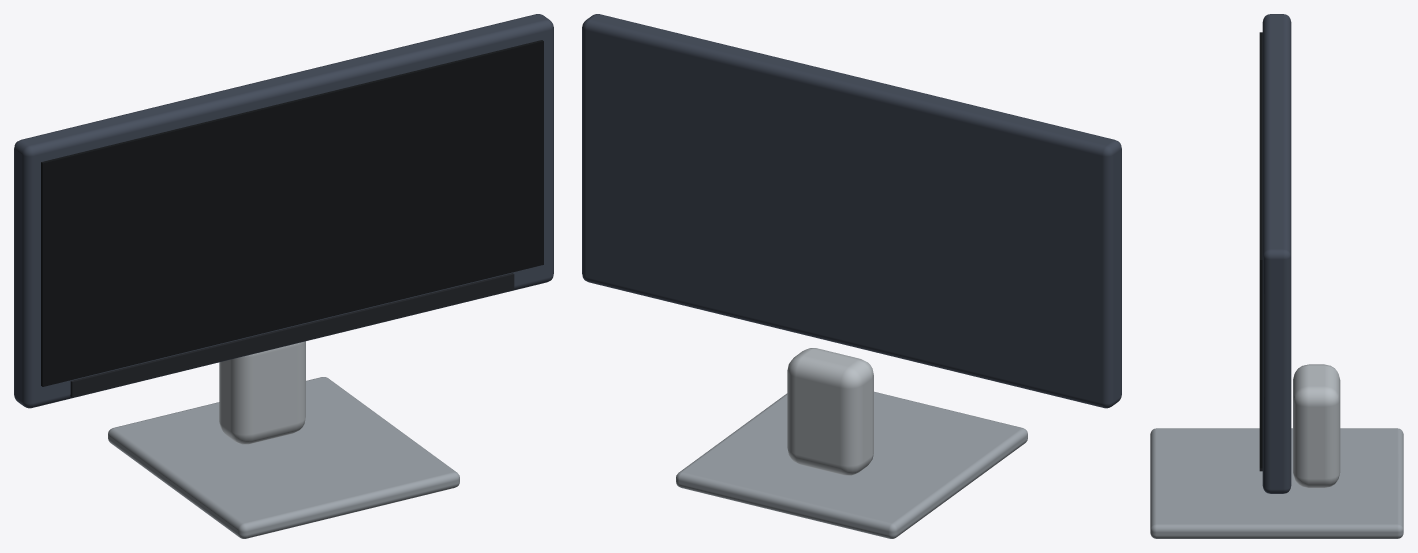
Rendered from desktop-lite.glb.
The picture shows the model from 3 angles, left to right: view 1: azimuth 30°, elevation 25°; view 2: azimuth 150°, elevation 25°; view 3: azimuth 270°, elevation 25°; orthographic projection. The views are drawn at different scales.
Visible parts, largest first — view 1: material-3-screen, material-0-base, material-2-body, material-4-grating, material-1-metal; view 2: material-2-body, material-0-base, material-1-metal; view 3: material-0-base, material-2-body, material-1-metal, material-3-screen.
Part boxes in pixels (bbox=[...]): material-3-screen: bbox=[41, 40, 543, 386]; material-0-base: bbox=[108, 377, 459, 538]; material-2-body: bbox=[14, 14, 553, 408]; material-4-grating: bbox=[70, 273, 514, 397]; material-1-metal: bbox=[219, 341, 305, 444]; material-2-body: bbox=[582, 14, 1121, 408]; material-0-base: bbox=[676, 391, 1027, 538]; material-1-metal: bbox=[787, 348, 873, 475]; material-0-base: bbox=[1150, 428, 1403, 538]; material-2-body: bbox=[1262, 14, 1291, 493]; material-1-metal: bbox=[1293, 364, 1340, 487]; material-3-screen: bbox=[1259, 32, 1262, 468].
Bounding box in the file's own units: 0.72 × 0.5 × 0.32.
